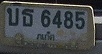txt19: (21, 8, 34, 27)
txt21: (5, 7, 20, 27)
